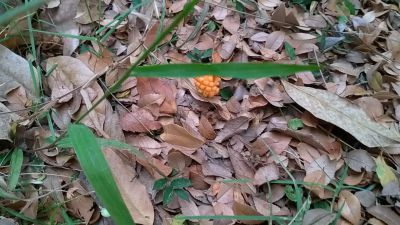eggs: (191, 67, 224, 97)
